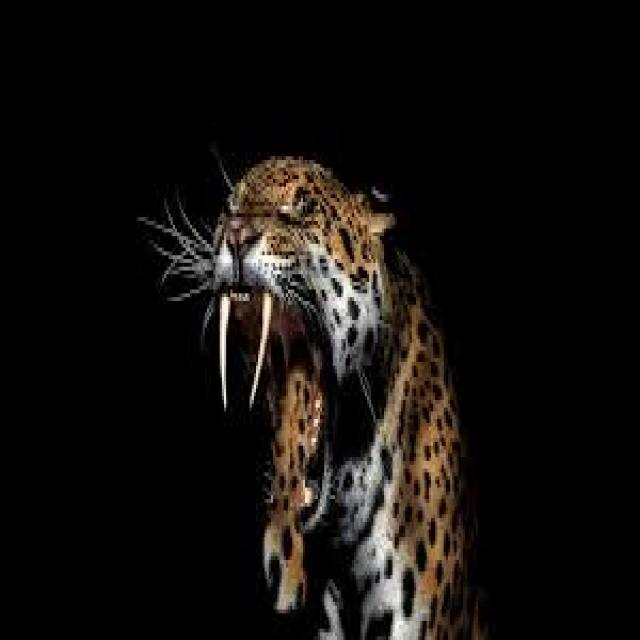Jaguar: (185, 148, 484, 640)
